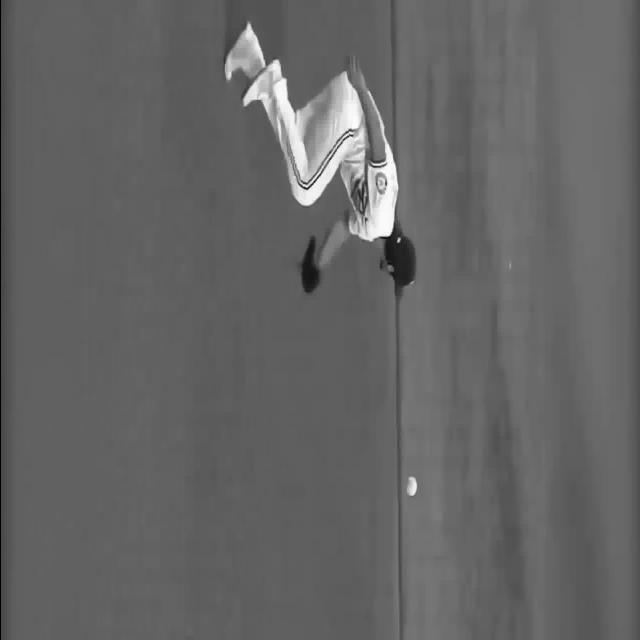baseball: (406, 476, 416, 496)
baseball_glove: (300, 236, 320, 294)
shoe: (223, 21, 264, 81), (240, 58, 282, 107)
